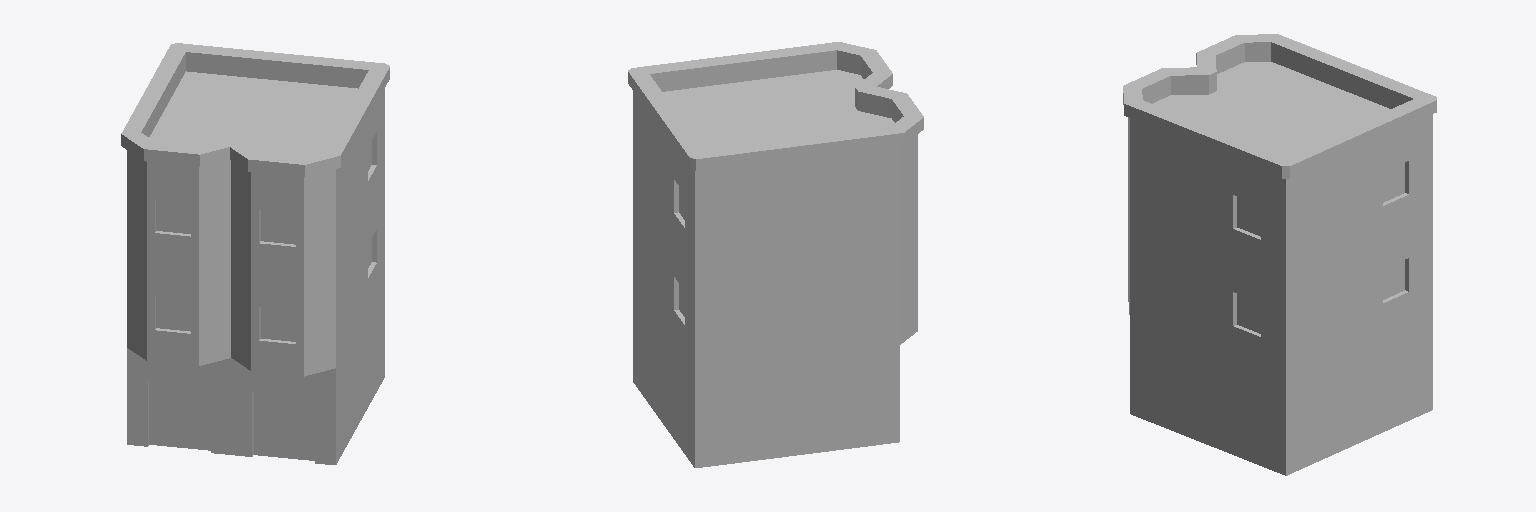
The model's file is variant_19.obj.
3 renders of one model, left to right at view 1: azimuth 30°, elevation 25°; view 2: azimuth 150°, elevation 25°; view 3: azimuth 270°, elevation 25°, orthographic.
Parts seen in each view (by area): view 1: Building; view 2: Building; view 3: Building.
Part boxes in pixels (x1,y1,x2,y2): Building: (121, 43, 389, 464); Building: (628, 42, 923, 467); Building: (1123, 34, 1436, 475).
Bounding box in the file's own units: 1.17 × 1.28 × 1.17.